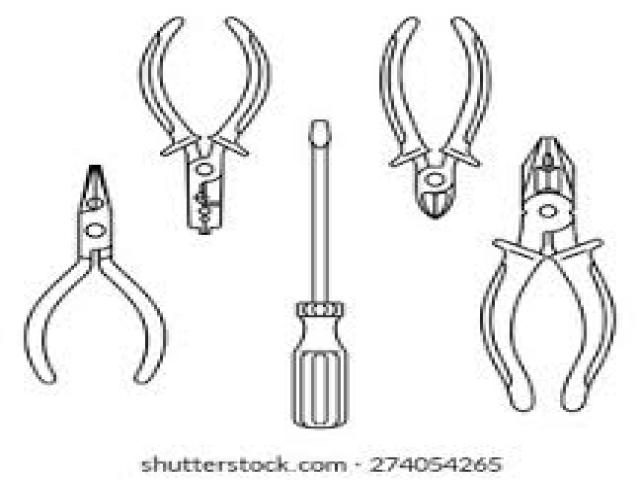Cutting pliers: (139, 17, 270, 234), (379, 17, 491, 218)
Needle-nose pliers: (24, 165, 166, 384)
Pliers: (475, 134, 619, 411)
Screwdriver: (291, 119, 348, 428)
